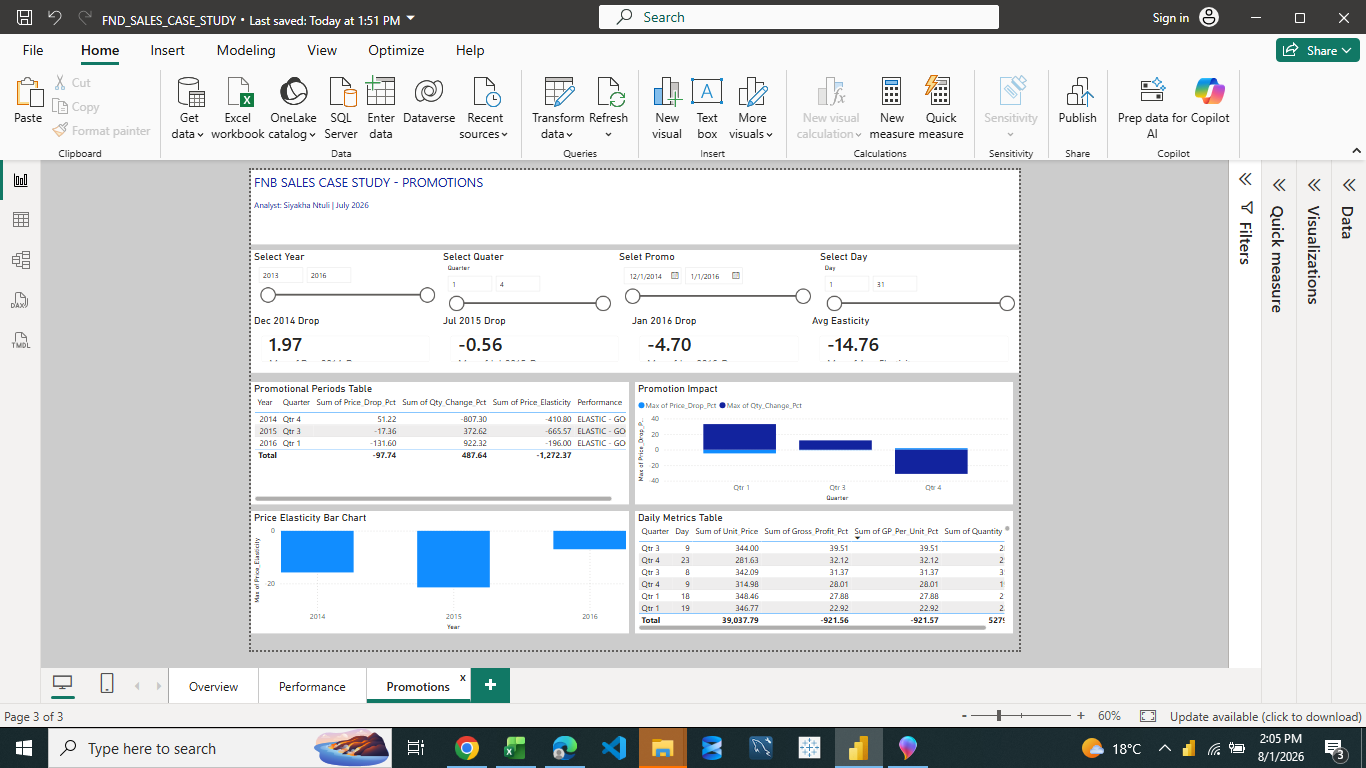

What the dashboard file says about the page in this screenshot:
{"tool":"powerbi","page":{"name":"Promotions","canvas":[1280,800],"ordinal":2},"visuals":[{"type":"textbox","box":[0,0,1280,123.8],"z":1},{"type":"slicer","title":"Select Year","fields":{"Values":["FNB_POWER__BI (1).Year"]},"box":[0,132.5,315,107.5],"z":2},{"type":"slicer","title":"Select Quater","fields":{"Values":["FNB_POWER__BI (1).Quarter"]},"box":[315,132.5,293.8,107.5],"z":3},{"type":"slicer","title":"Selet Promo","fields":{"Values":["FNB_POWER__BI (1).Promo_Name"]},"box":[608.8,132.5,333.8,107.5],"z":4},{"type":"slicer","title":"Select  Day","fields":{"Values":["FNB_POWER__BI (1).Promo_Name.Variation.Date Hierarchy.Day"]},"box":[942.5,132.5,337.5,107.5],"z":5},{"type":"cardVisual","title":"Dec 2014 Drop","fields":{"Data":["Max(FNB_POWER__BI (1).Dec_2014_Drop)"]},"box":[0,240,315,97.5],"z":6},{"type":"cardVisual","title":"Jul 2015 Drop","fields":{"Data":["Max(FNB_POWER__BI (1).Jul_2015_Drop)"]},"box":[315,240,315,97.5],"z":7},{"type":"tableEx","title":"Promotional Periods Table","fields":{"Values":["FNB_POWER__BI (1).Promo_Name.Variation.Date Hierarchy.Year","FNB_POWER__BI (1).Promo_Name.Variation.Date Hierarchy.Quarter","Sum(FNB_POWER__BI (1).Price_Drop_Pct)","Sum(FNB_POWER__BI (1).Qty_Change_Pct)","Sum(FNB_POWER__BI (1).Price_Elasticity)","FNB_POWER__BI (1).Performance"]},"box":[0,353.8,630,203.8],"z":8},{"type":"columnChart","title":"Promotion Impact","fields":{"Category":["FNB_POWER__BI (1).Promo_Name.Variation.Date Hierarchy.Year","FNB_POWER__BI (1).Promo_Name.Variation.Date Hierarchy.Quarter"],"Y":["Max(FNB_POWER__BI (1).Price_Drop_Pct)","Max(FNB_POWER__BI (1).Qty_Change_Pct)"]},"box":[640,353.8,630,203.8],"z":9},{"type":"columnChart","title":"Price Elasticity Bar Chart","fields":{"Category":["FNB_POWER__BI (1).Promo_Name.Variation.Date Hierarchy.Year","FNB_POWER__BI (1).Promo_Name.Variation.Date Hierarchy.Quarter"],"Y":["Max(FNB_POWER__BI (1).Price_Elasticity)"]},"box":[0,567.5,630,203.8],"z":10},{"type":"tableEx","title":"Daily Metrics Table","fields":{"Values":["FNB_POWER__BI (1).Date.Variation.Date Hierarchy.Quarter","FNB_POWER__BI (1).Date.Variation.Date Hierarchy.Day","Sum(FNB_POWER__BI (1).Unit_Price)","Sum(FNB_POWER__BI (1).Gross_Profit_Pct)","Sum(FNB_POWER__BI (1).GP_Per_Unit_Pct)","Sum(FNB_POWER__BI (1).Quantity Sold)"]},"box":[640,567.5,630,203.8],"z":11},{"type":"cardVisual","title":"Jan 2016 Drop","fields":{"Data":["Max(FNB_POWER__BI (1).Jan_2016_Drop)"]},"box":[630,240,300,97.5],"z":12},{"type":"cardVisual","title":"Avg Easticity","fields":{"Data":["Max(FNB_POWER__BI (1).Avg_Elasticity)"]},"box":[930,240,350,97.5],"z":13}]}

Visuals, with their boxes on the page's 1280x800 design canvas (x1, y1, x2, y2). These are canvas units, not pixel positions in the 1366x768 screenshot, which may show the page scaled, cropped or inside an application window:
textbox: select_region(0, 0, 1280, 124)
"Select Year" slicer: select_region(0, 132, 315, 240)
"Select Quater" slicer: select_region(315, 132, 609, 240)
"Selet Promo" slicer: select_region(609, 132, 943, 240)
"Select  Day" slicer: select_region(942, 132, 1280, 240)
"Dec 2014 Drop" cardVisual: select_region(0, 240, 315, 338)
"Jul 2015 Drop" cardVisual: select_region(315, 240, 630, 338)
"Promotional Periods Table" tableEx: select_region(0, 354, 630, 558)
"Promotion Impact" columnChart: select_region(640, 354, 1270, 558)
"Price Elasticity Bar Chart" columnChart: select_region(0, 568, 630, 771)
"Daily Metrics Table" tableEx: select_region(640, 568, 1270, 771)
"Jan 2016 Drop" cardVisual: select_region(630, 240, 930, 338)
"Avg Easticity" cardVisual: select_region(930, 240, 1280, 338)
